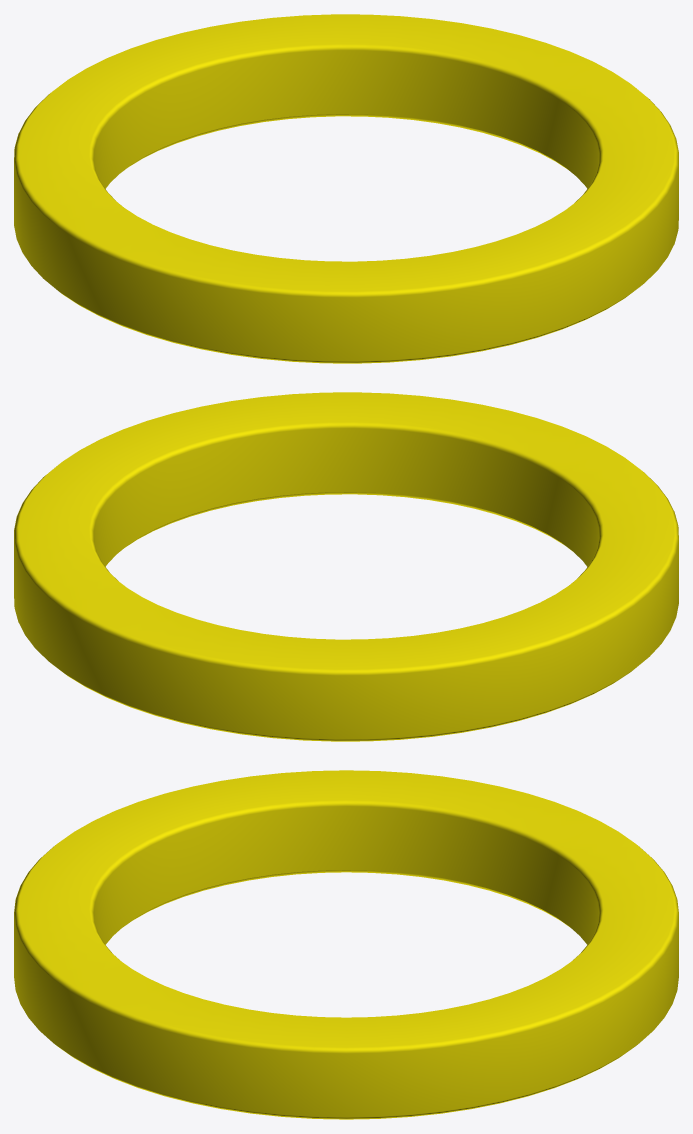
3 renders of one model, top to bottom at view 1: azimuth 30°, elevation 25°; view 2: azimuth 150°, elevation 25°; view 3: azimuth 270°, elevation 25°, orthographic.
Parts seen in each view (by area): view 1: seal_body; view 2: seal_body; view 3: seal_body.
Part boxes in pixels (bbox=[...]): seal_body: bbox=[14, 14, 678, 363]; seal_body: bbox=[14, 392, 678, 741]; seal_body: bbox=[14, 770, 678, 1119].
Size of the model in its own units: 0.0397 by 0.00476 by 0.0397.
